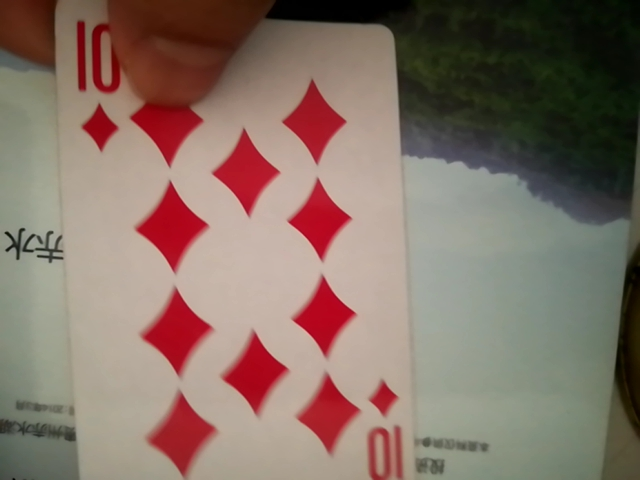fk 10: (28, 20, 443, 476)
